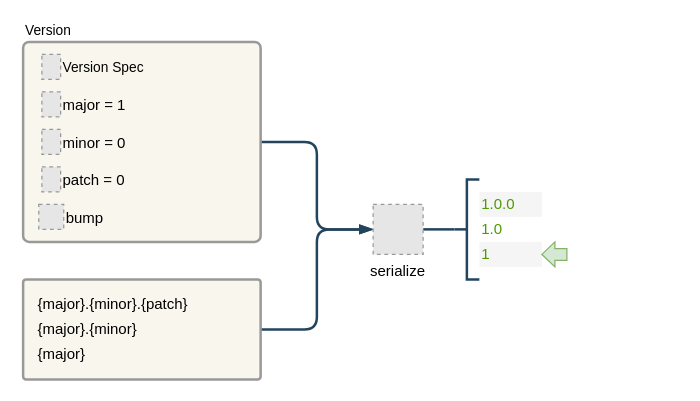
This 700x401 diagram has some shape labels left out. Grey dashed boxes stand in for pictures. Here are the shapes that lost their labels. From the top down, the box of each, then its label:
(541, 241, 567, 267): Selected Format
(21, 278, 261, 380): Version Serialization Formats
